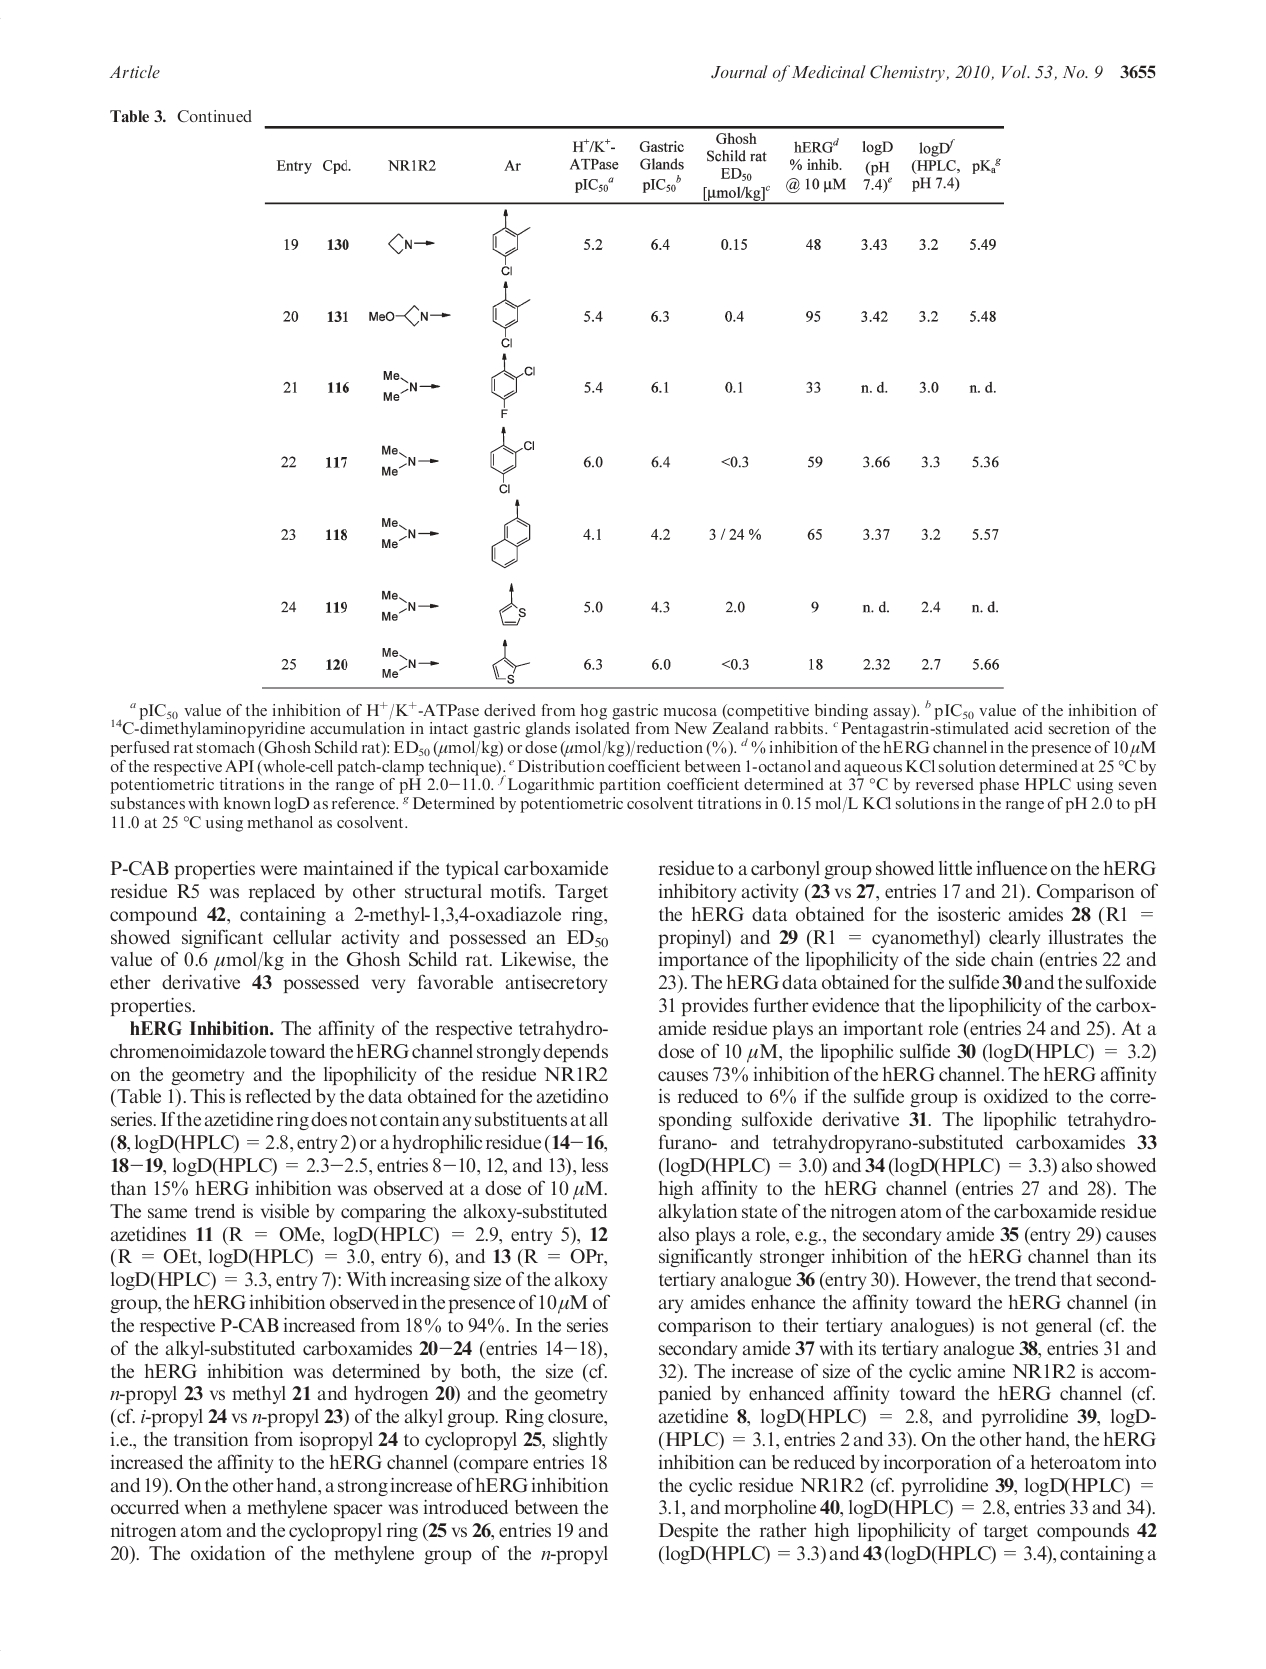exist_molecular: (483, 495, 536, 569), (484, 278, 536, 348), (485, 348, 535, 422), (487, 422, 536, 495), (485, 203, 529, 285), (374, 509, 439, 556), (370, 644, 442, 682), (375, 364, 443, 403), (364, 301, 457, 327), (378, 443, 442, 479), (374, 590, 442, 622), (489, 640, 531, 682), (495, 582, 527, 626), (386, 231, 436, 255)
